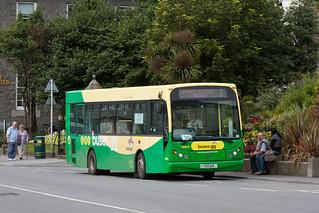bus: (59, 79, 242, 181)
